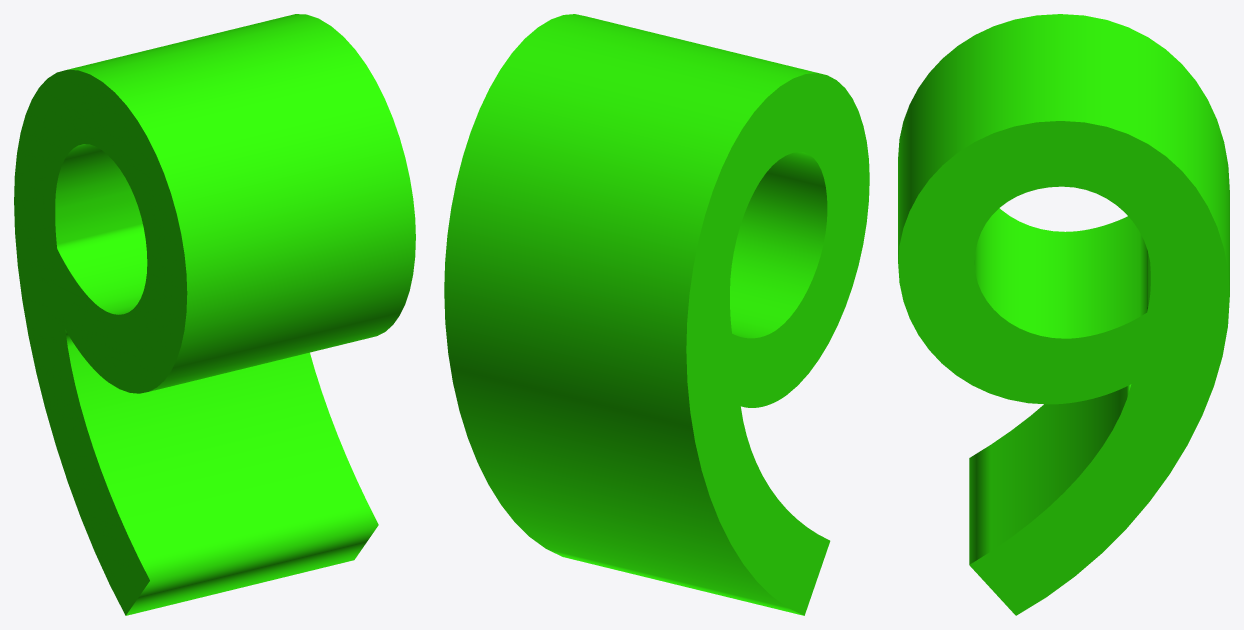
The model's file is number9.obj.
The picture shows the model from 3 angles, left to right: view 1: azimuth 30°, elevation 25°; view 2: azimuth 150°, elevation 25°; view 3: azimuth 270°, elevation 25°; orthographic projection. The views are drawn at different scales.
Parts seen in each view (by area): view 1: Text.017_Text.024; view 2: Text.017_Text.024; view 3: Text.017_Text.024.
Part boxes in pixels (box(x1,y1,x2,y2)): Text.017_Text.024: box(14, 14, 415, 615); Text.017_Text.024: box(444, 14, 869, 615); Text.017_Text.024: box(898, 14, 1229, 615).
Bounding box in the file's own units: 2.23 × 4.83 × 2.93.
